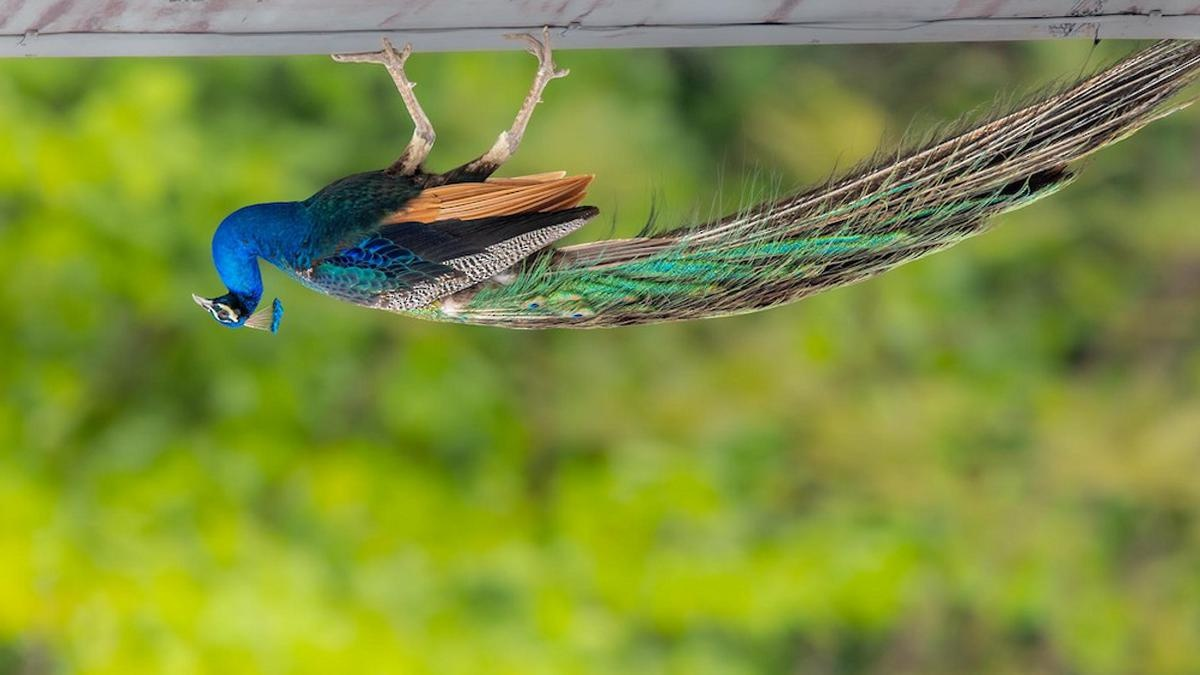peacock: (131, 67, 1200, 370)
